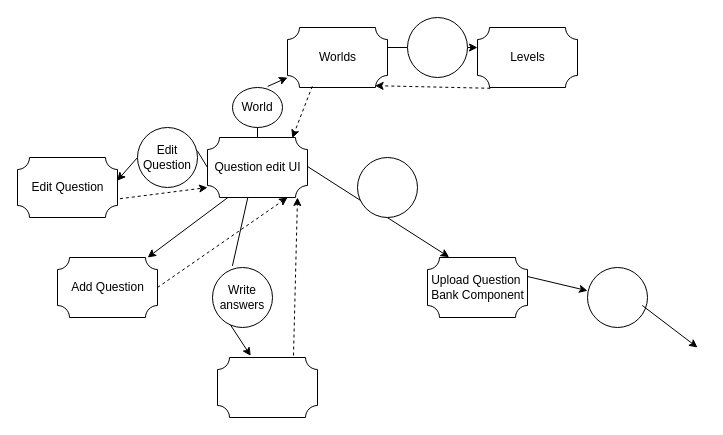
Image size: 723x435. Some labels were removed from this diagram. Here are the shapes that lost their labels. From the top down, the centre of each, then its label:
(x=437, y=47): level
(x=387, y=187): Upload Question Bank
(x=617, y=297): Update question bank
(x=267, y=387): Answer Component
